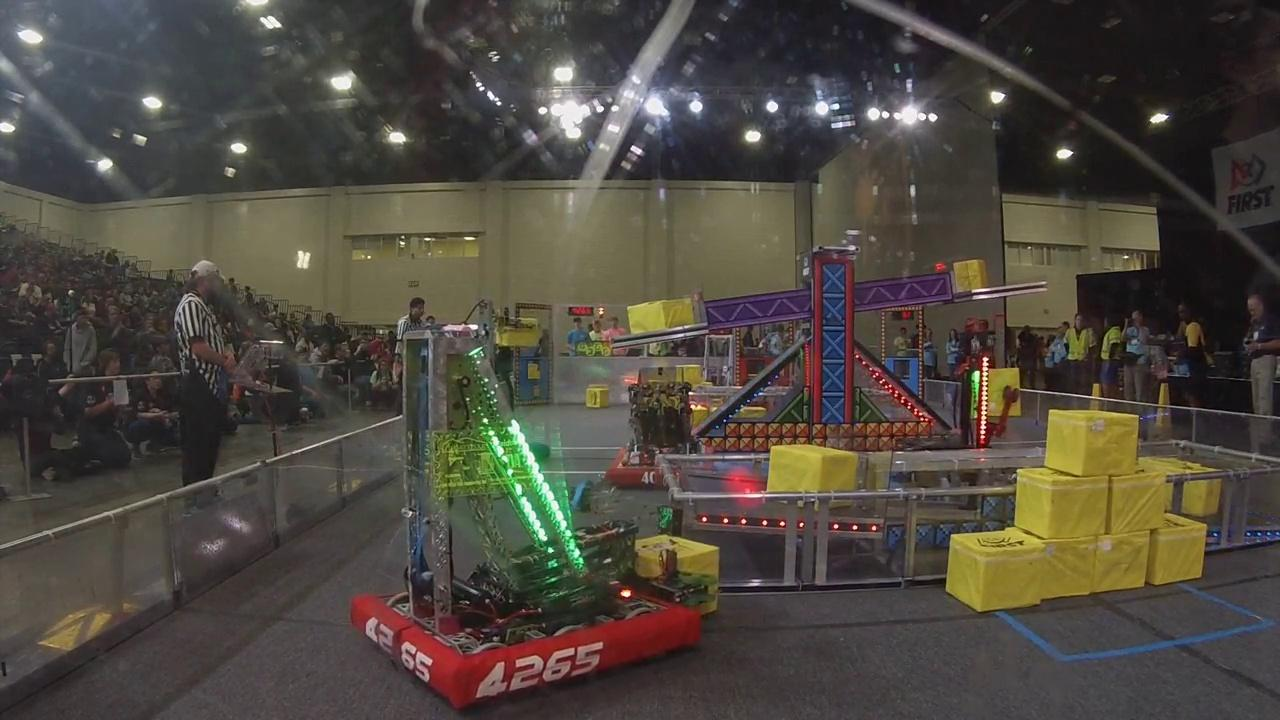robot: (350, 321, 723, 714), (606, 378, 722, 496)
